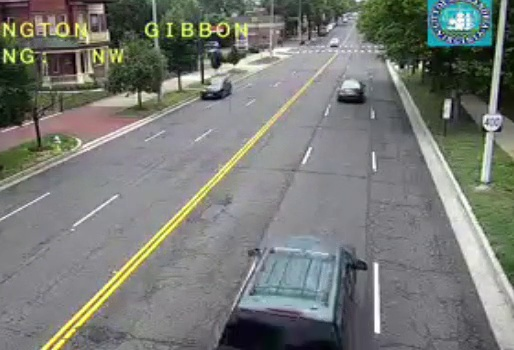car: (217, 236, 357, 350), (338, 80, 363, 102)
